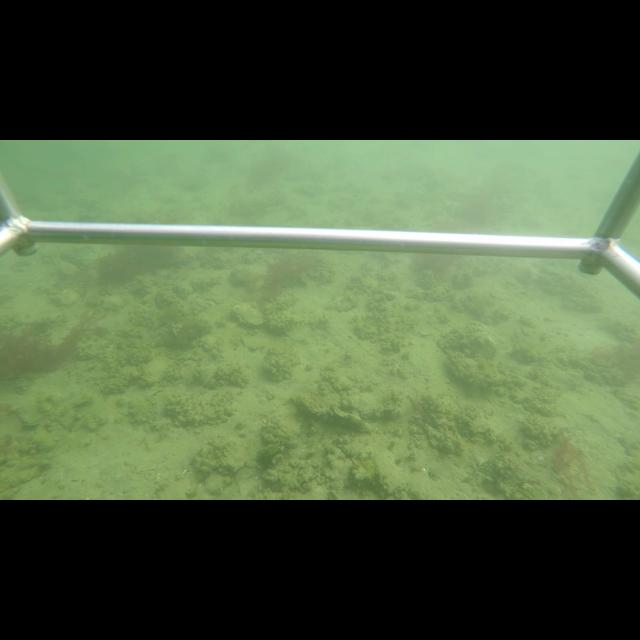Oyster-Closed: (232, 300, 266, 328), (79, 347, 97, 360)
